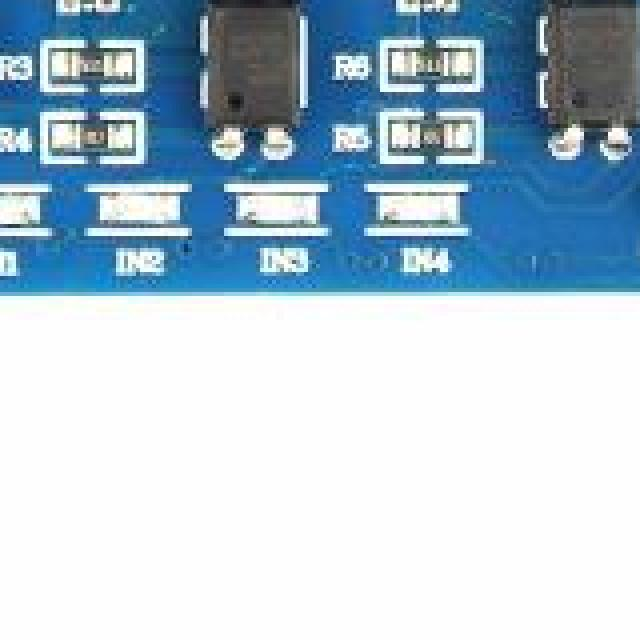IC: (196, 0, 312, 148), (532, 0, 640, 136)
LED: (244, 192, 314, 232), (384, 192, 470, 224), (104, 188, 170, 226), (0, 200, 32, 224)
resistor: (64, 116, 120, 154), (60, 48, 118, 82), (400, 48, 464, 78), (404, 124, 462, 150)
transistor: (52, 0, 116, 12), (396, 0, 460, 12)
